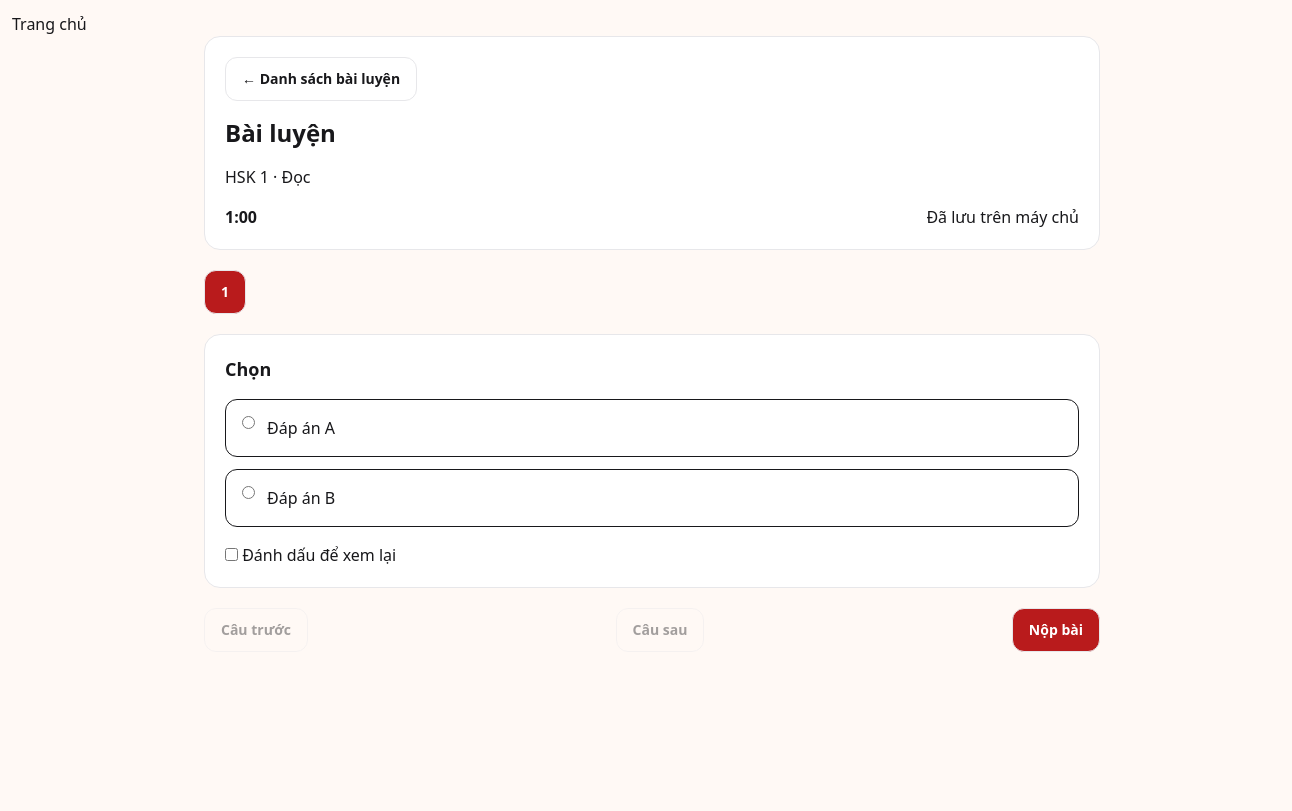
Test: does not repeatedly overwrite a stale version from another tab
What coordinates should you click on to do the following:
click the radio button labelled "Đáp án A"
I would click on:
 (248, 422)
Its box is x1=242 y1=416 x2=255 y2=429.
Wait 10000 ms
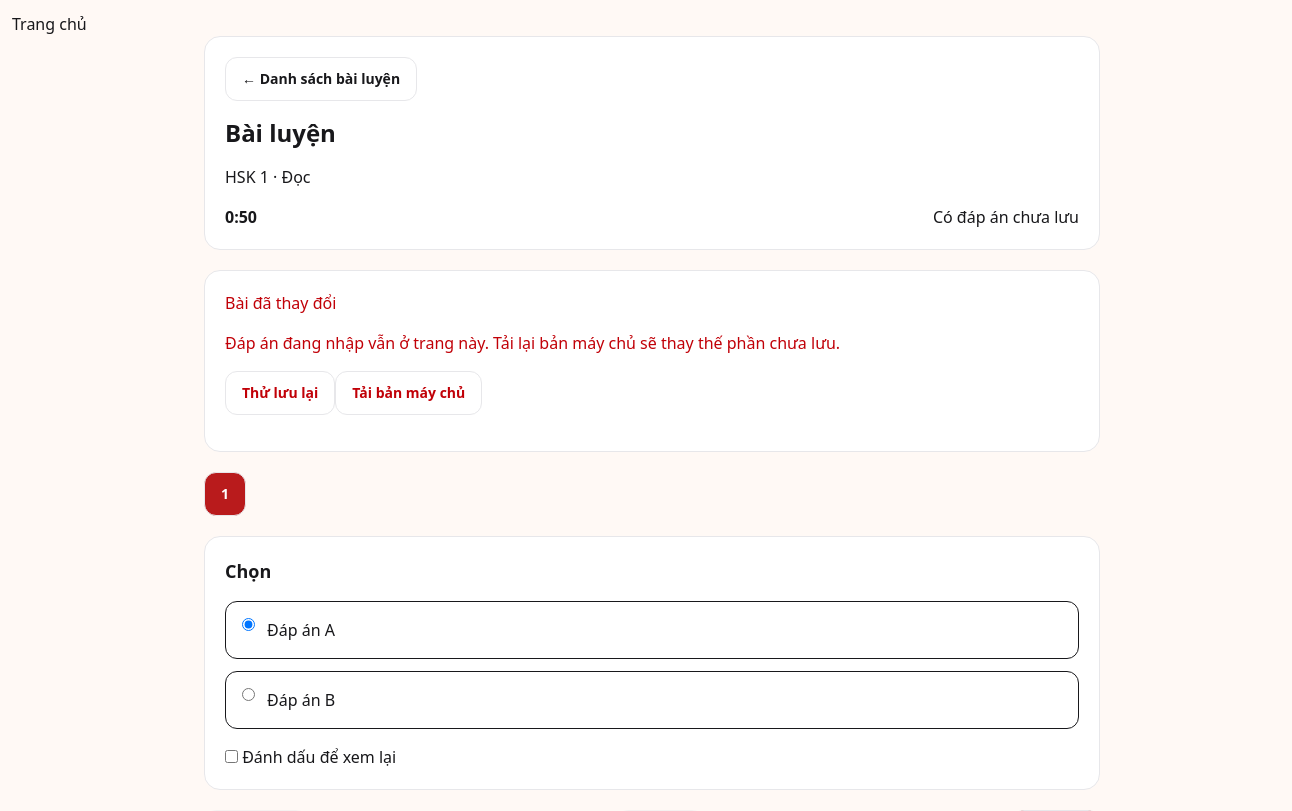
Result: the message shows "Bài đã thay đổi" at x1=225 y1=292 x2=336 y2=314
